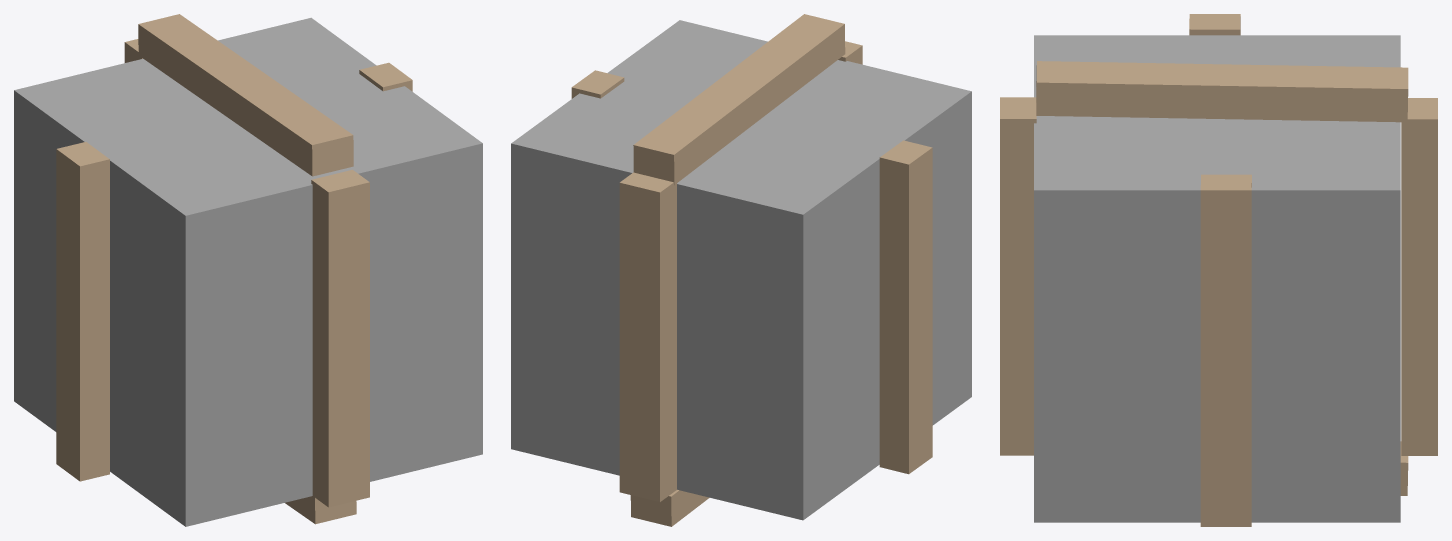
Rendered from LetterI.fbx.
The picture shows the model from 3 angles, left to right: view 1: azimuth 30°, elevation 25°; view 2: azimuth 150°, elevation 25°; view 3: azimuth 270°, elevation 25°; orthographic projection. The views are drawn at different scales.
Visible parts, largest first — view 1: Box, Text Front, Text Left, Text Top, Text Bottom, Text Right; view 2: Box, Text Back, Text Left, Text Top, Text Bottom, Text Right; view 3: Box, Text Top, Text Right, Text Back, Text Front, Text Left.
Boxes of the visible parts, x1,y1,x2,y2 form: Box: [14, 17, 482, 526]; Text Front: [311, 169, 369, 507]; Text Left: [56, 142, 109, 481]; Text Top: [138, 14, 353, 176]; Text Bottom: [285, 496, 356, 524]; Text Right: [359, 62, 412, 91]; Box: [511, 20, 971, 520]; Text Back: [619, 172, 676, 501]; Text Left: [879, 140, 932, 474]; Text Top: [633, 14, 845, 185]; Text Bottom: [630, 489, 709, 526]; Text Right: [571, 70, 624, 98]; Box: [1034, 35, 1400, 522]; Text Top: [1036, 61, 1408, 122]; Text Right: [1200, 174, 1251, 526]; Text Back: [1401, 98, 1437, 455]; Text Front: [1000, 97, 1036, 455]; Text Left: [1189, 14, 1240, 35].
Bounding box in the file's own units: 1.14 × 1.24 × 1.19.
